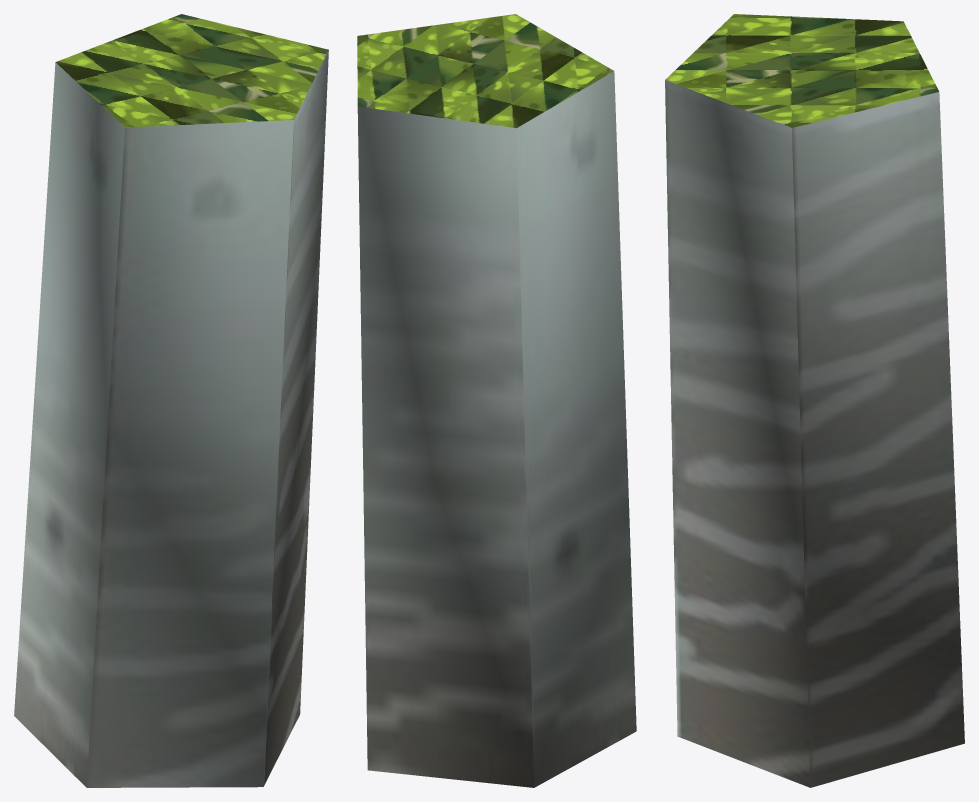
Rendered from bottomHalfTreeTrunk.glb.
3 views of the same model, side by side, from view 1: azimuth 30°, elevation 25°; view 2: azimuth 150°, elevation 25°; view 3: azimuth 270°, elevation 25° (orthographic). The views are drawn at different scales.
Visible parts, largest first — view 1: BottomHalfTreeTrunk; view 2: BottomHalfTreeTrunk; view 3: BottomHalfTreeTrunk.
Part boxes in pixels (x1,y1,x2,y2): BottomHalfTreeTrunk: (14,14,328,787); BottomHalfTreeTrunk: (357,14,636,787); BottomHalfTreeTrunk: (665,14,964,787).
Size of the model in its own units: 0.4996 by 1.21 by 0.4913.
1 material, 1 textured.
